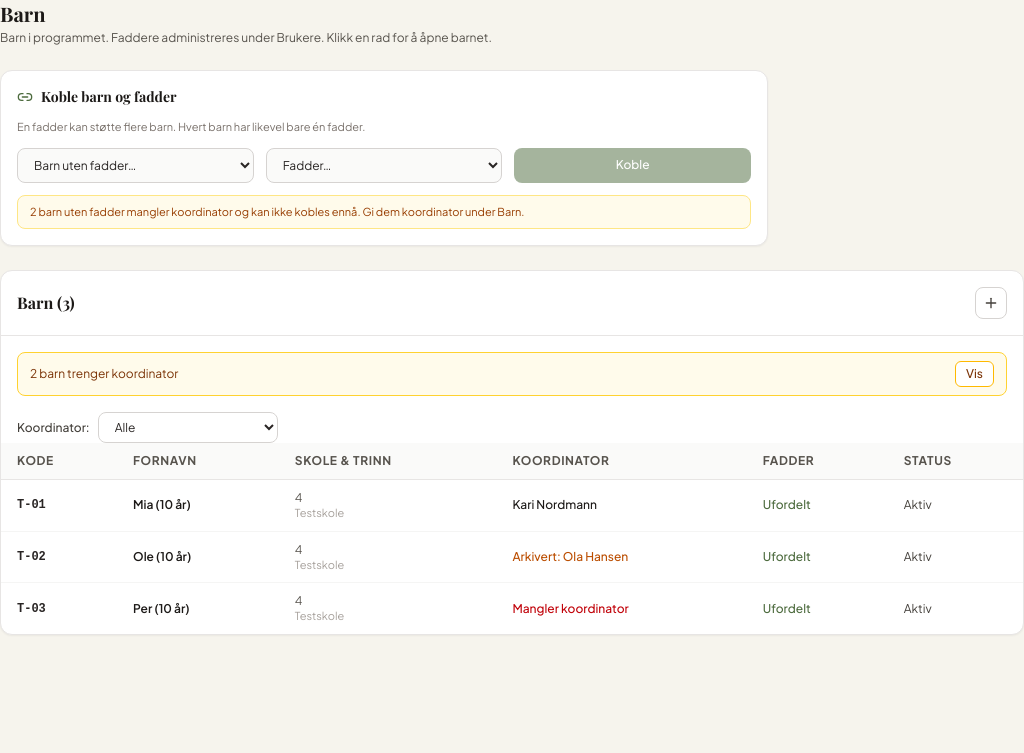
Scenario: Barn-siden: bytt koordinator i barnekortet › viser feil inline når flyttingen kaster
Click the text "T-03" at x=31, y=609, box [1,583,117,634]
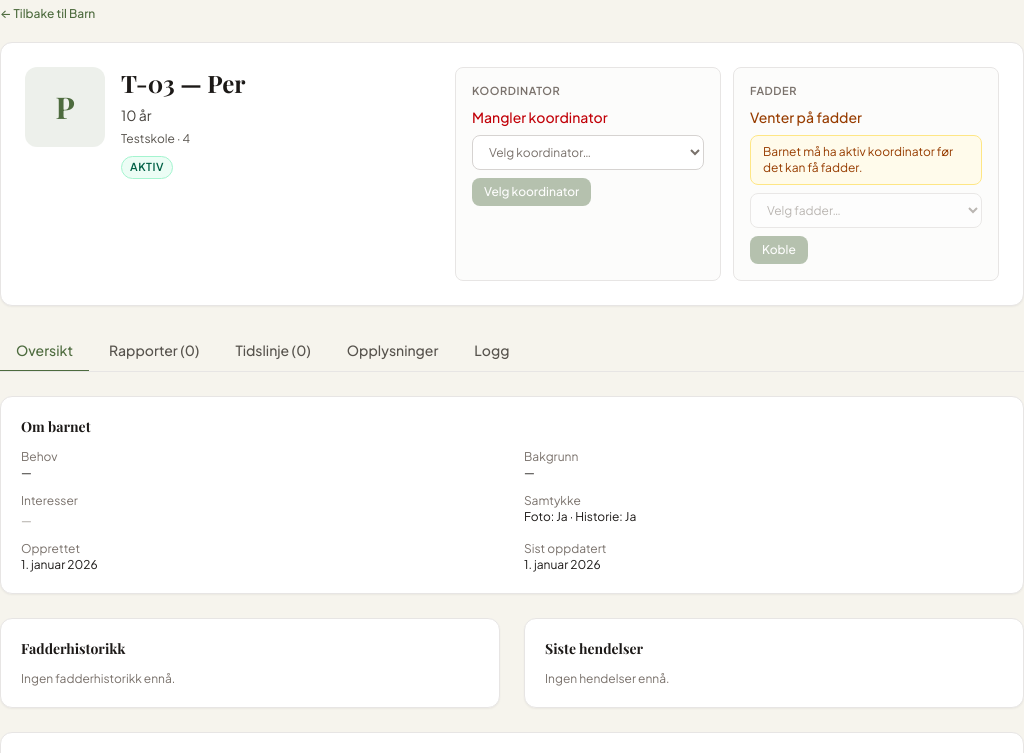
Select "Ine Berg" in the dropdown named "Ny koordinator" at x=588, y=152, box [472,135,704,170]
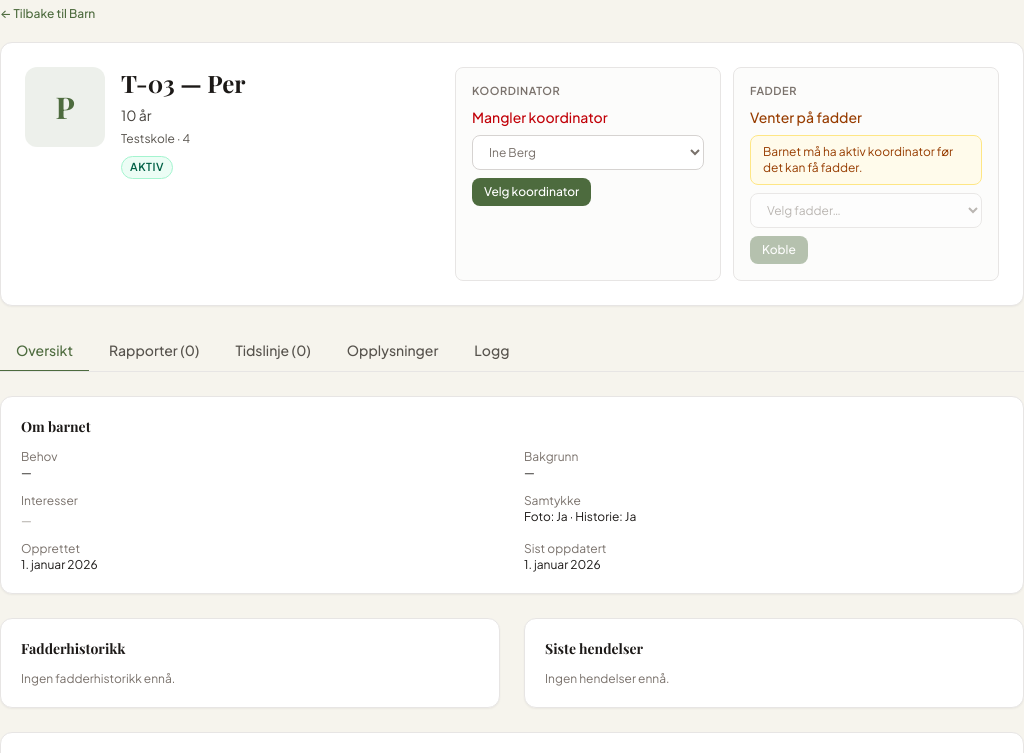
Click the button "Velg koordinator" at x=532, y=192, box [472,178,591,206]
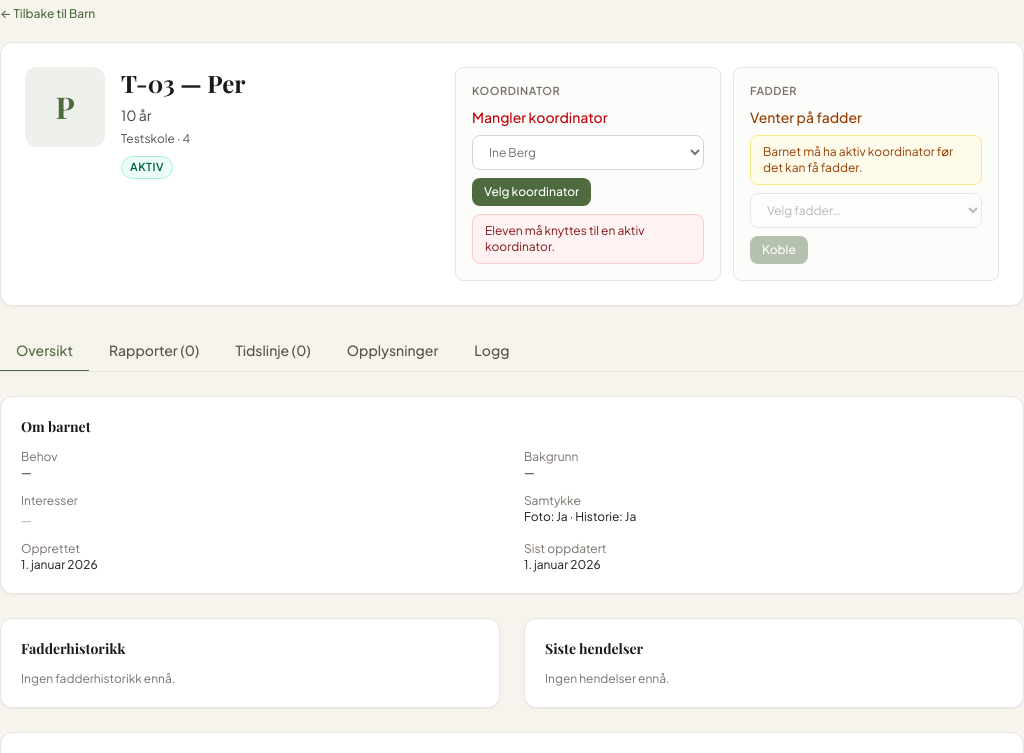
Check: the message reads "Eleven må knyttes til en aktiv koordinator.", box [485,223,644,254]
